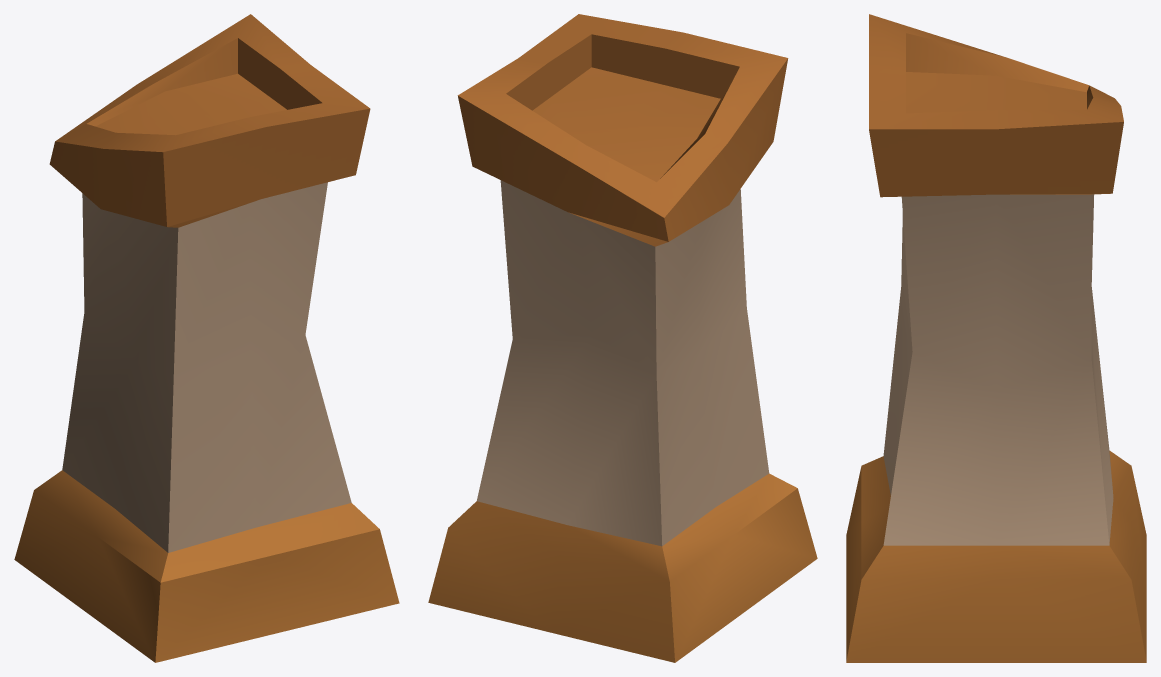
The model's file is Pillar_slanted_B.fbx.
The picture shows the model from 3 angles, left to right: view 1: azimuth 30°, elevation 25°; view 2: azimuth 150°, elevation 25°; view 3: azimuth 270°, elevation 25°; orthographic projection. The views are drawn at different scales.
Parts seen in each view (by area): view 1: Pillar_slanted_B; view 2: Pillar_slanted_B; view 3: Pillar_slanted_B.
Boxes of the visible parts, x1=… form: Pillar_slanted_B: x1=14, y1=14, x2=399, y2=662; Pillar_slanted_B: x1=428, y1=14, x2=817, y2=662; Pillar_slanted_B: x1=846, y1=14, x2=1146, y2=662.
Bounding box in the file's own units: 50.58 × 98.67 × 50.58.
